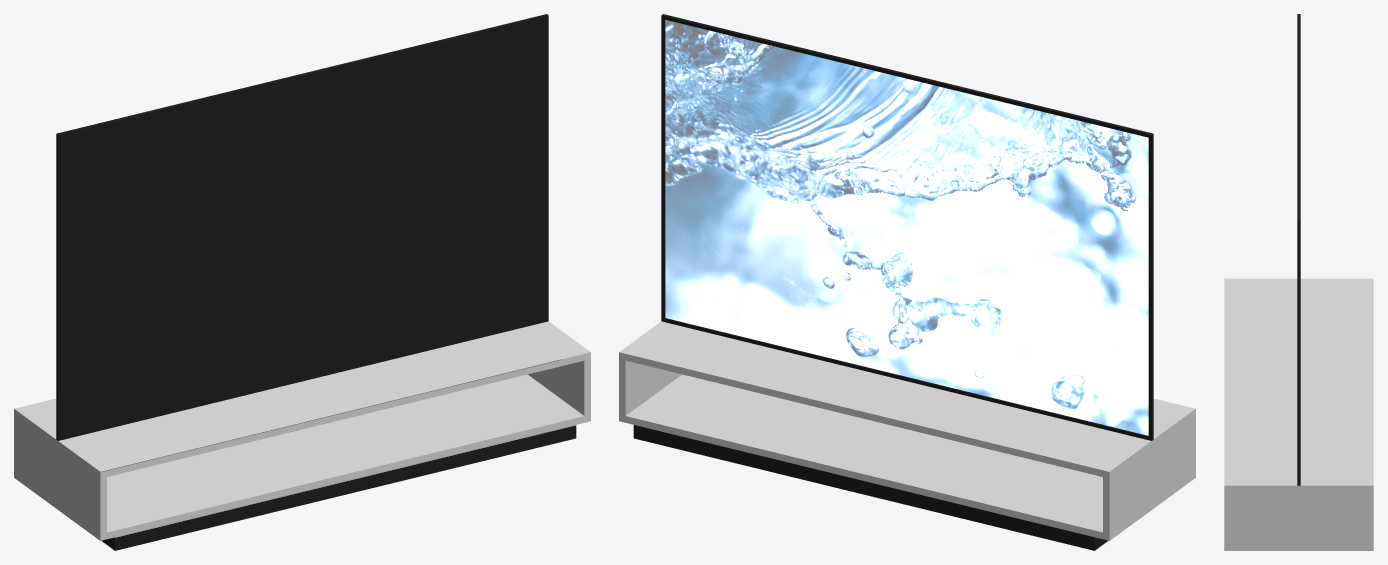
The picture shows the model from 3 angles, left to right: view 1: azimuth 30°, elevation 25°; view 2: azimuth 150°, elevation 25°; view 3: azimuth 270°, elevation 25°; orthographic projection. The views are drawn at different scales.
Visible parts, largest first — view 1: TV, Table; view 2: TV, Table; view 3: Table, TV.
Boxes of the visible parts, <box> form: TV: <box>56,14,548,440</box>; Table: <box>14,321,590,550</box>; TV: <box>661,14,1153,440</box>; Table: <box>619,321,1195,550</box>; Table: <box>1224,278,1373,550</box>; TV: <box>1297,14,1300,485</box>.
Bounding box in the file's own units: 1.51 × 1.14 × 0.46.
3 materials, 2 textured.
